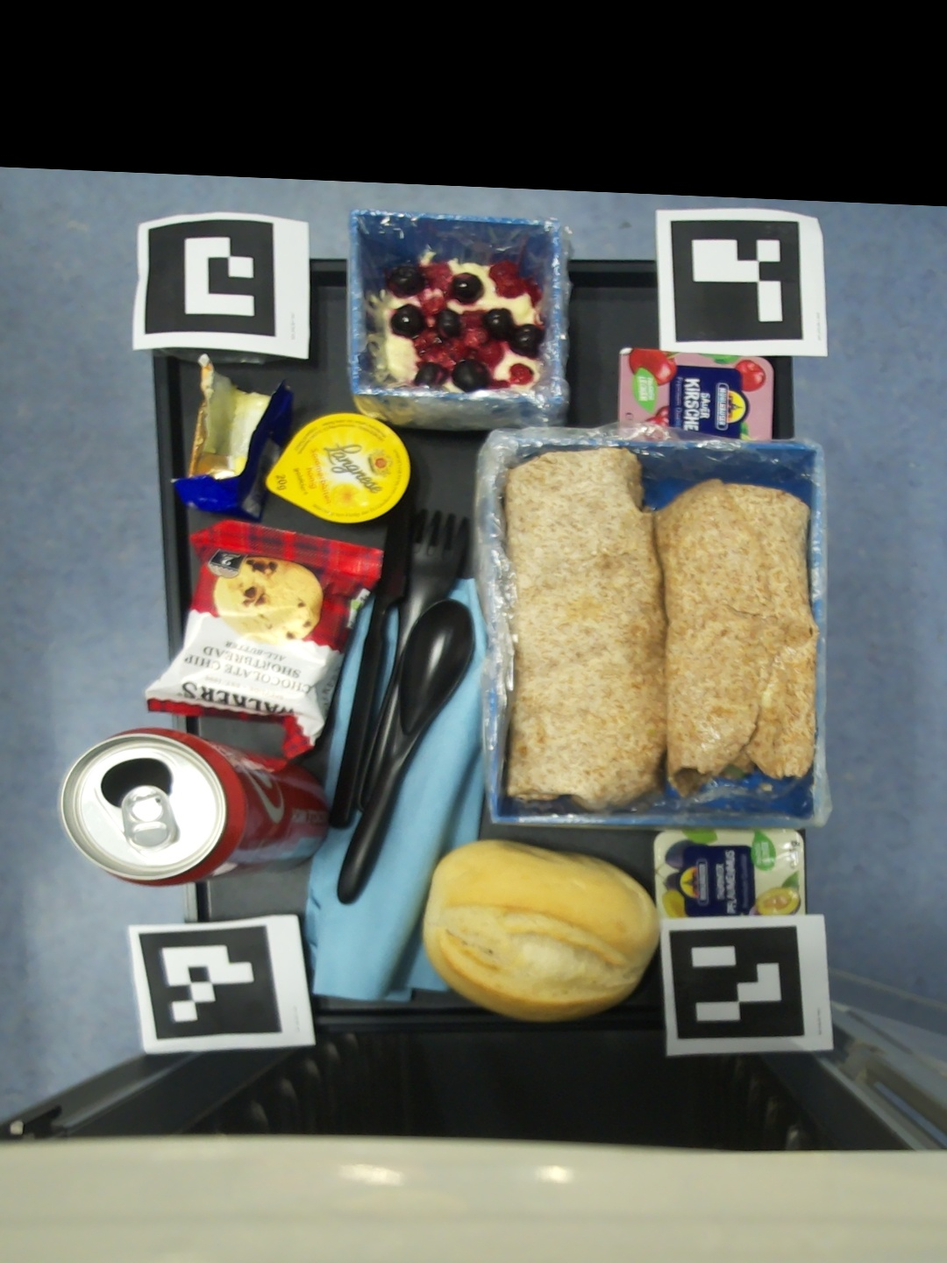bread_roll: (421, 840, 658, 1021)
butter: (171, 354, 294, 523)
cherry_jam: (618, 346, 773, 439)
cola_can: (61, 728, 327, 885)
cookie: (144, 518, 384, 759)
honey: (266, 414, 410, 522)
plum_jam: (653, 829, 805, 923)
vanilla_pudding_with_fruits: (380, 252, 545, 394)
wrap_half_1: (504, 449, 665, 813)
wrap_half_2: (655, 479, 820, 798)
